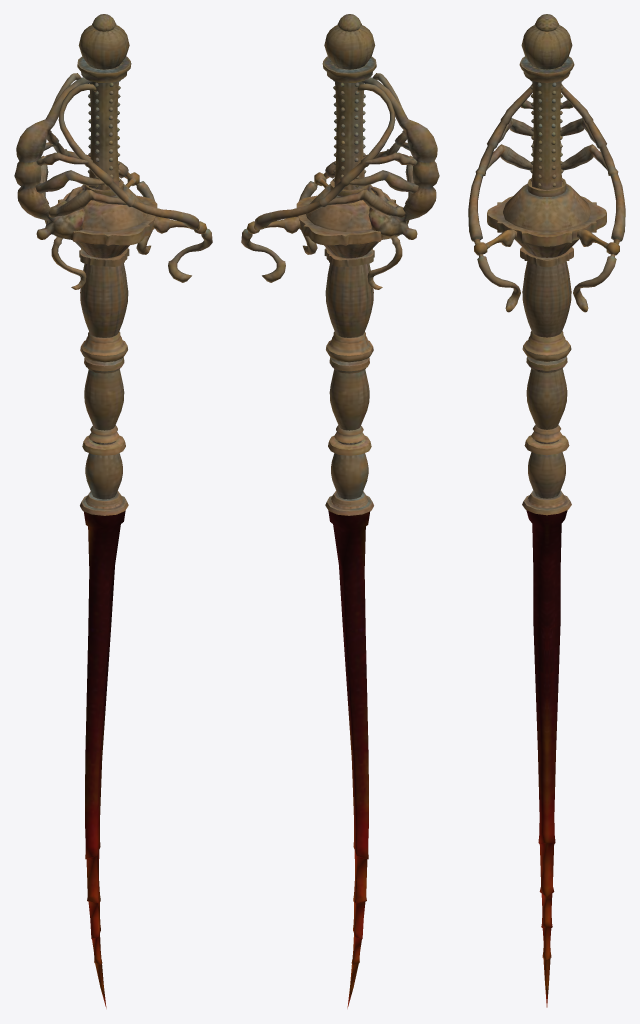
File: weapon-wp_a_0253.glb
3 views of the same model, side by side, from view 1: azimuth 30°, elevation 25°; view 2: azimuth 150°, elevation 25°; view 3: azimuth 270°, elevation 25° (orthographic).
Visible parts, largest first — view 1: wp_a_0253_mesh; view 2: wp_a_0253_mesh; view 3: wp_a_0253_mesh.
Part boxes in pixels (x1,y1,x2,y2): wp_a_0253_mesh: [14, 14, 212, 1008]; wp_a_0253_mesh: [241, 14, 439, 1008]; wp_a_0253_mesh: [468, 14, 625, 1007].
Bounding box in the file's own units: 0.1912 × 1.08 × 0.1551.
Materials: 1 (1 with a texture image).
